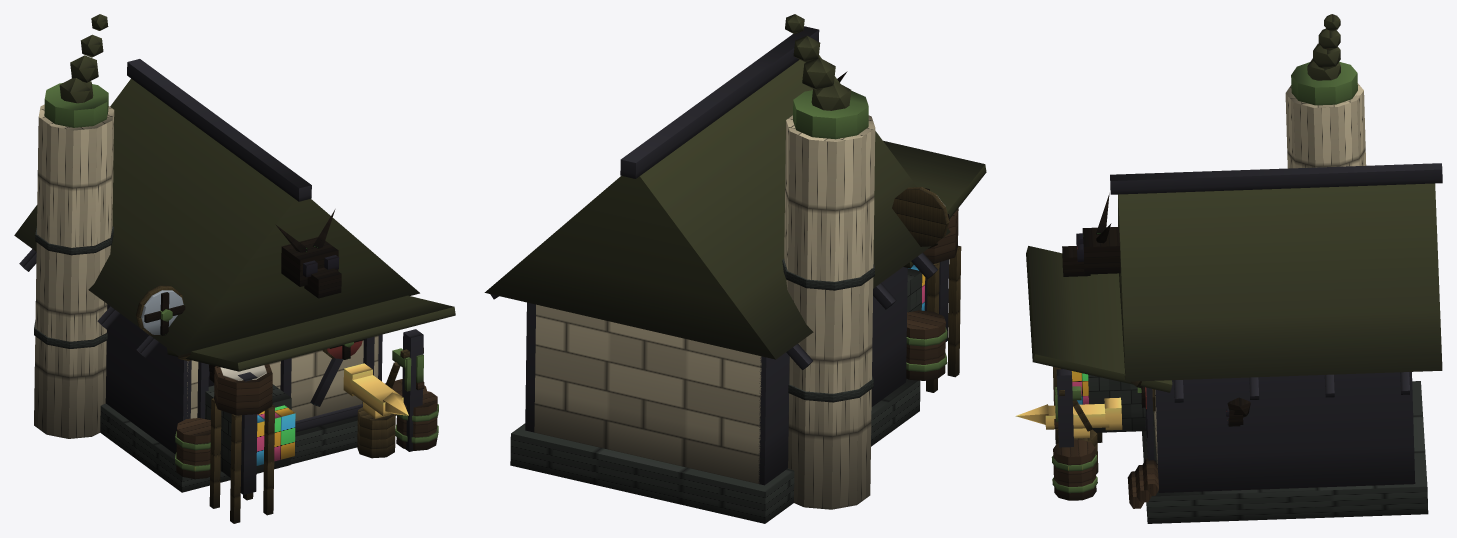
File: blacksmith.obj
3 renders of one model, left to right at view 1: azimuth 30°, elevation 25°; view 2: azimuth 150°, elevation 25°; view 3: azimuth 270°, elevation 25°, orthographic. The views are drawn at different scales.
Parts seen in each view (by area): view 1: blacksmith; view 2: blacksmith; view 3: blacksmith.
Boxes of the visible parts, <box> form: blacksmith: <box>14,14,455,523</box>; blacksmith: <box>484,14,986,523</box>; blacksmith: <box>1015,14,1442,523</box>.
Size of the model in its own units: 2.25 by 3.01 by 2.83.
1 material, 1 textured.
